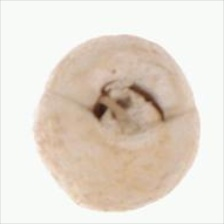L3: (83, 76, 173, 144)
L4: (33, 34, 201, 212)
